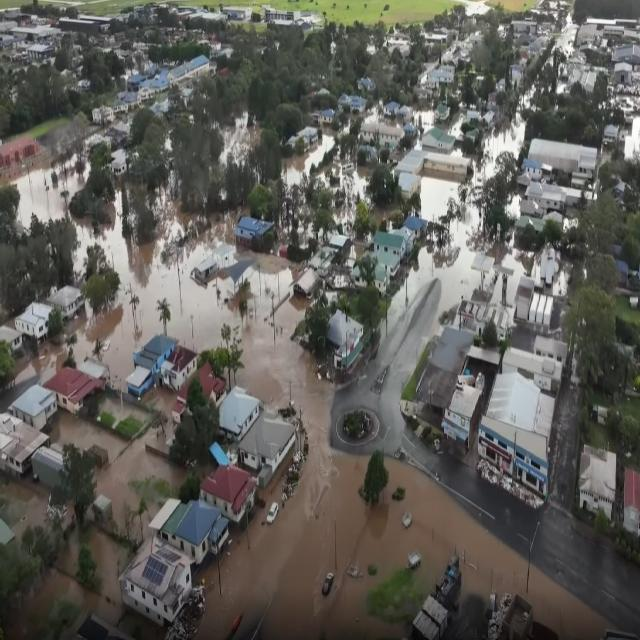flood: (75, 232, 608, 640), (420, 119, 535, 310), (50, 412, 186, 512), (57, 528, 130, 606), (2, 570, 82, 640), (8, 161, 87, 224), (283, 136, 335, 185), (74, 194, 121, 246), (220, 119, 260, 164)
house: (478, 370, 558, 500), (123, 540, 193, 624), (159, 502, 224, 568), (139, 332, 194, 398), (526, 136, 604, 182), (0, 418, 51, 488), (204, 458, 255, 524), (578, 442, 616, 523), (50, 362, 104, 415), (7, 379, 57, 432), (443, 376, 480, 446), (250, 416, 296, 472), (372, 226, 408, 293), (221, 390, 263, 445), (17, 298, 50, 351), (238, 212, 278, 254), (522, 178, 564, 212), (331, 312, 362, 356), (122, 362, 156, 402), (422, 153, 471, 176), (56, 286, 84, 316), (290, 266, 318, 296), (361, 124, 401, 144)
